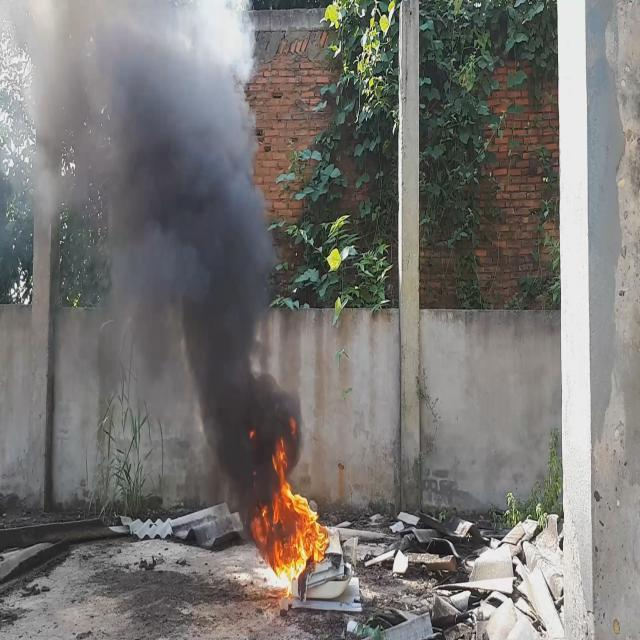Fire: (246, 435, 330, 603)
Smoke: (0, 0, 304, 521)
